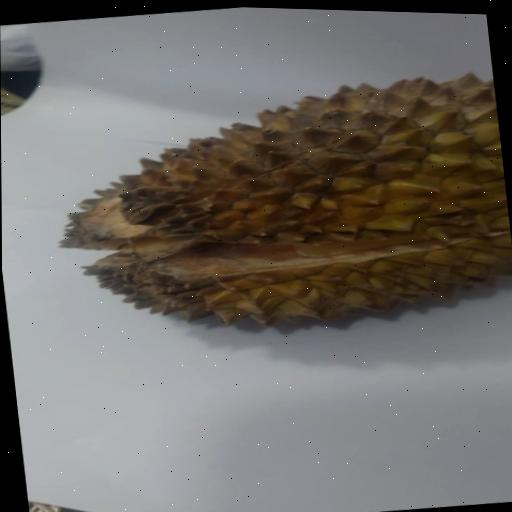rot: (26, 50, 512, 376)
